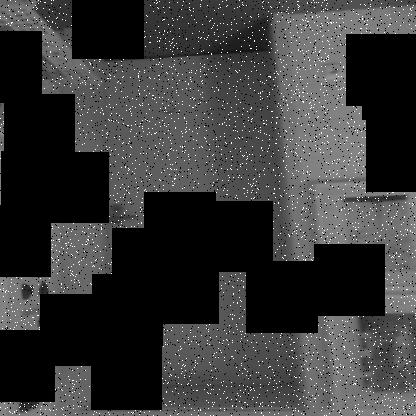Porte: (60, 11, 326, 415)
